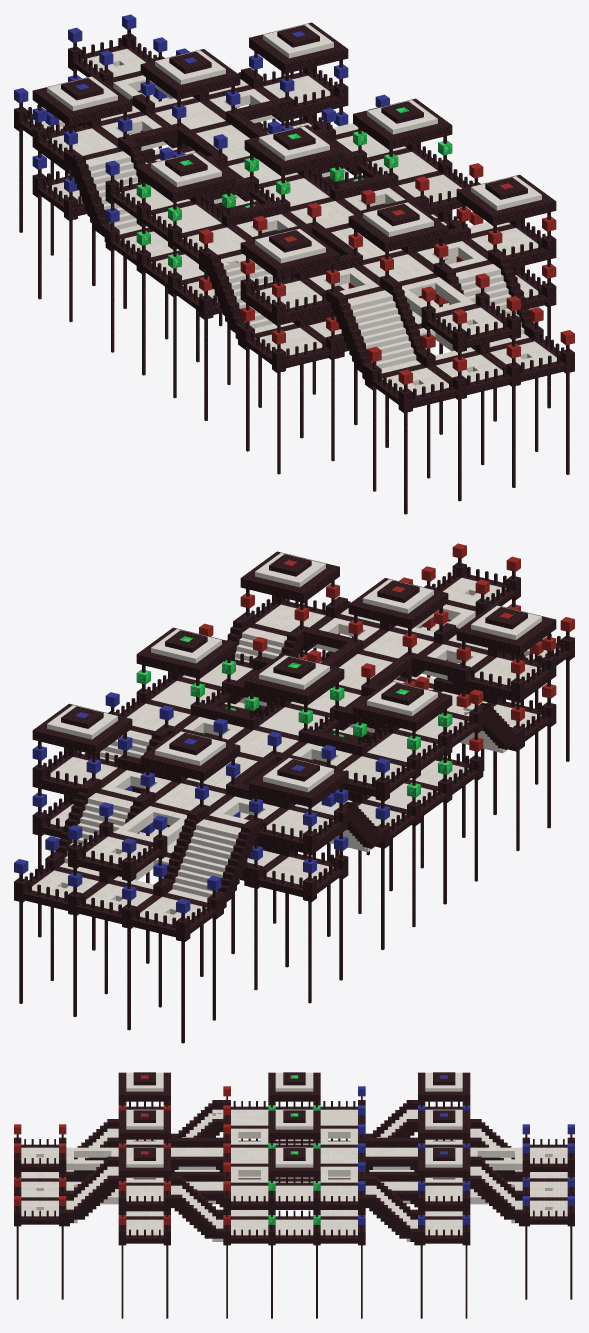
File: minecraft.obj
3 renders of one model, top to bottom at view 1: azimuth 30°, elevation 25°; view 2: azimuth 150°, elevation 25°; view 3: azimuth 270°, elevation 25°, orthographic. The views are drawn at different scales.
Bounding box in the file's own units: 31 × 23 × 75.
